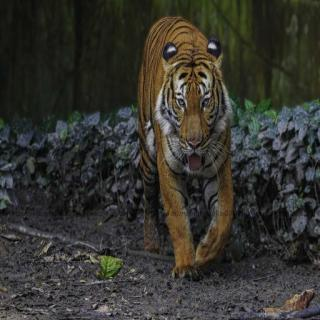Tiger: (132, 11, 238, 283)
